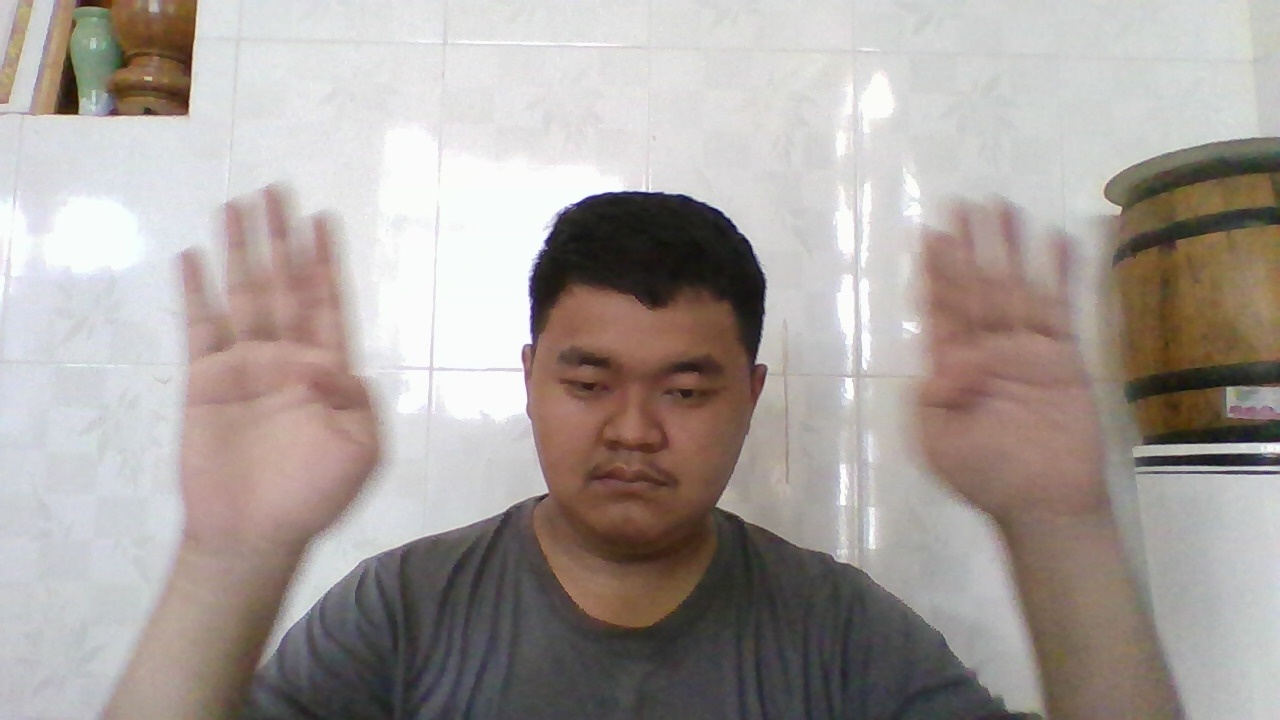B: (175, 184, 379, 554), (910, 197, 1081, 520)
